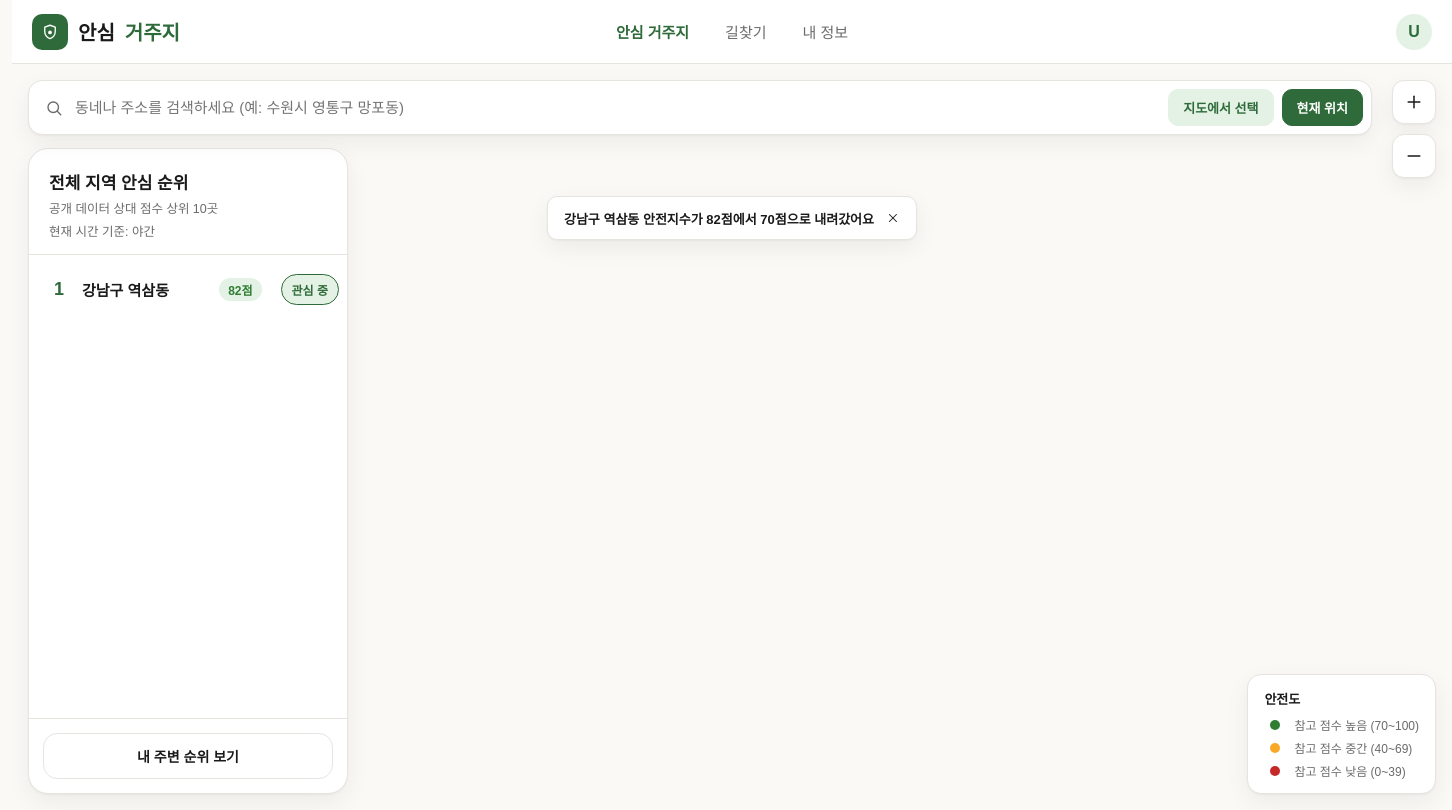
ResidencePage responsive presentation › tells the user right away when a watched neighbourhood's score has changed
This screenshot has width=1452, height=810.
Expected: the message reads "강남구 역삼동 안전지수가 82점에서 70점으로 내려갔어요", [564,212,874,226]
Click the button named "알림 닫기" at (893, 218), box [882,207,904,229]
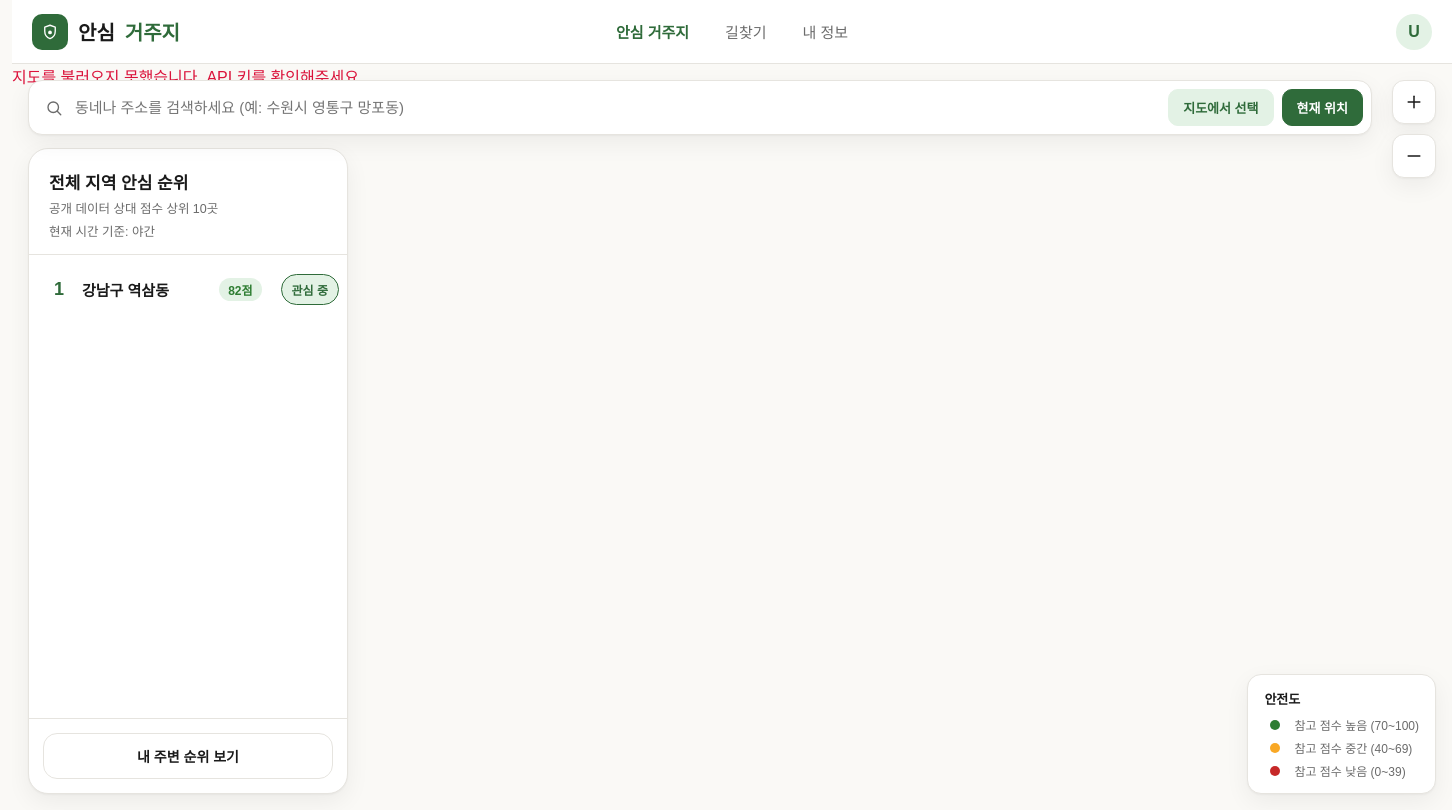
Now the message "강남구 역삼동 안전지수가 82점에서 70점으로 내려갔어요" is gone
